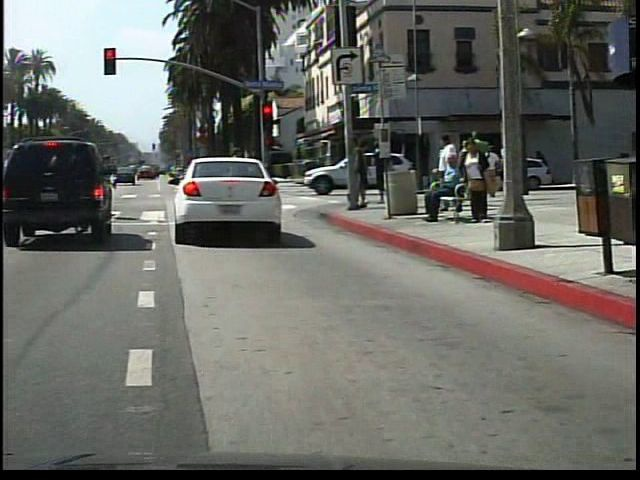person: (463, 133, 500, 231), (427, 154, 472, 223), (225, 141, 261, 218)
